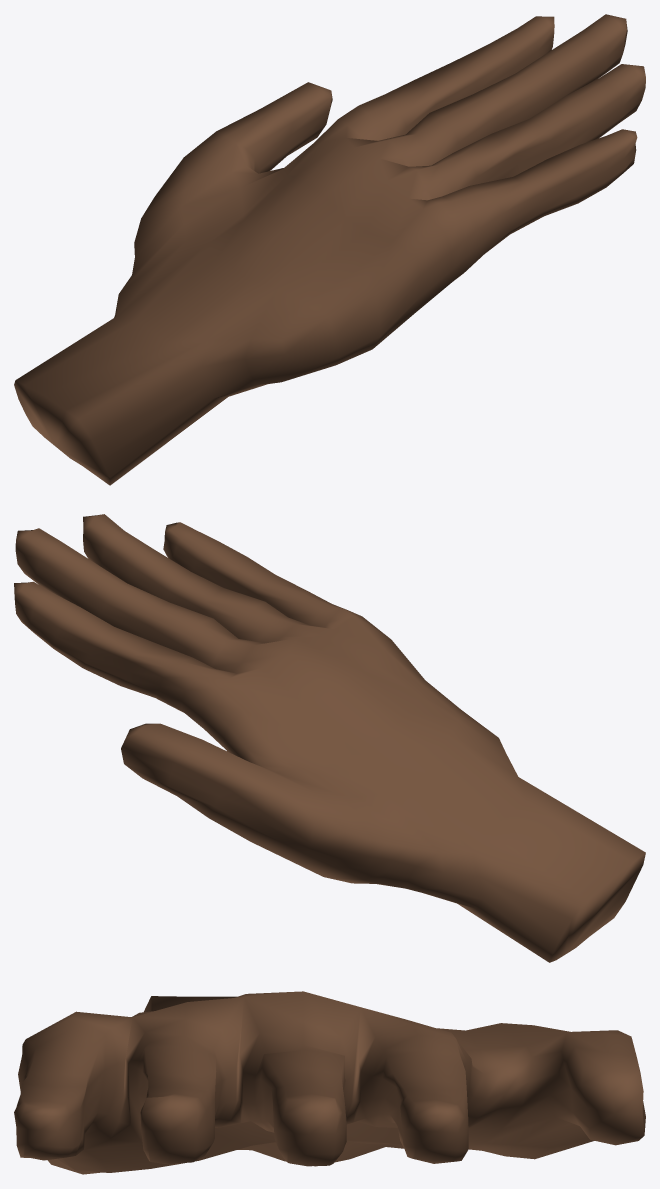
The model's file is Hand.fbx.
The picture shows the model from 3 angles, top to bottom: view 1: azimuth 30°, elevation 25°; view 2: azimuth 150°, elevation 25°; view 3: azimuth 270°, elevation 25°; orthographic projection. The views are drawn at different scales.
Visible parts, largest first — view 1: Hand; view 2: Hand; view 3: Hand.
Boxes of the visible parts, x1,y1,x2,y2 form: Hand: (14, 14, 645, 485); Hand: (14, 514, 645, 962); Hand: (14, 991, 645, 1174).
Bounding box in the file's own units: 53.8 × 25.7 × 29.65.
